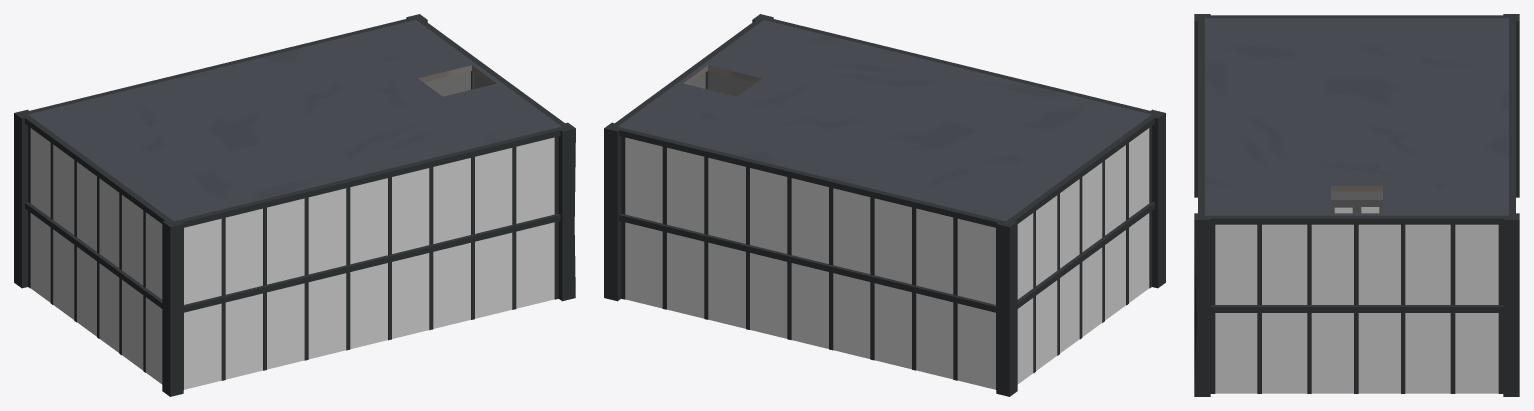
The model's file is SM_Bldg_City_High-Rise_Modern_03_Mid_01.fbx.
3 renders of one model, left to right at view 1: azimuth 30°, elevation 25°; view 2: azimuth 150°, elevation 25°; view 3: azimuth 270°, elevation 25°, orthographic. The views are drawn at different scales.
Parts seen in each view (by area): view 1: SM_Bldg_City_High-Rise_Modern_03_Mid_01; view 2: SM_Bldg_City_High-Rise_Modern_03_Mid_01; view 3: SM_Bldg_City_High-Rise_Modern_03_Mid_01.
Boxes of the visible parts, bbox=[...] form: SM_Bldg_City_High-Rise_Modern_03_Mid_01: bbox=[14, 14, 575, 396]; SM_Bldg_City_High-Rise_Modern_03_Mid_01: bbox=[604, 14, 1165, 396]; SM_Bldg_City_High-Rise_Modern_03_Mid_01: bbox=[1194, 14, 1519, 396].
Size of the model in its own units: 1500 by 600 by 1000.
